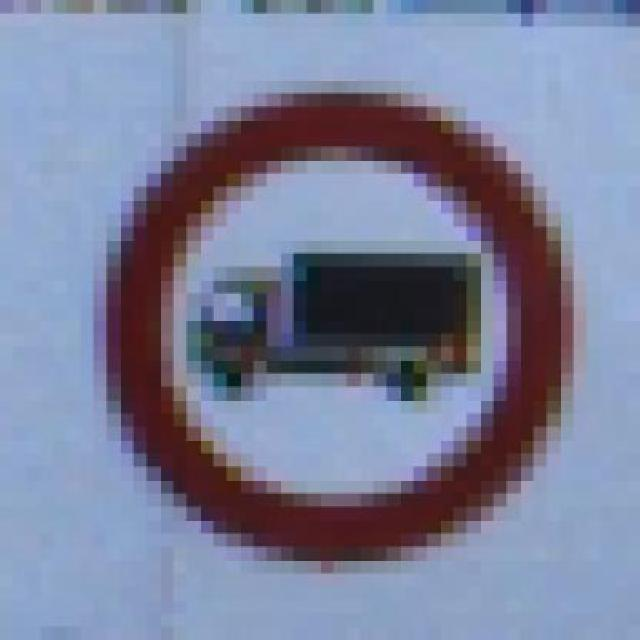Truck traffic is prohibited: (53, 80, 601, 574)
